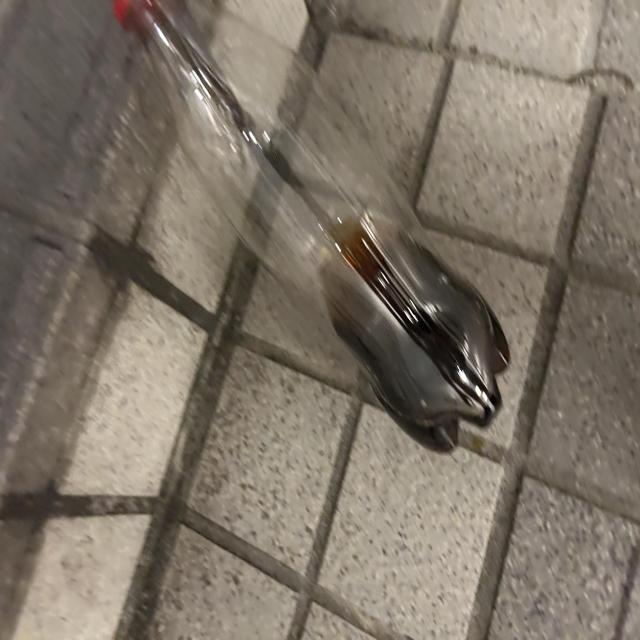low: (113, 0, 509, 451)
